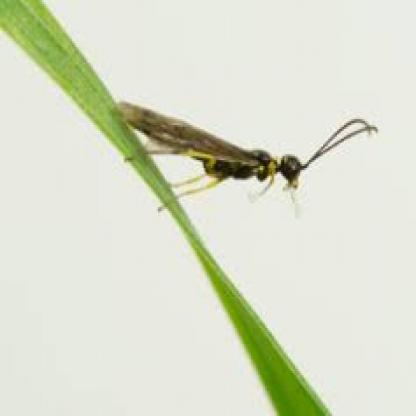sawfly: (116, 95, 387, 222)
